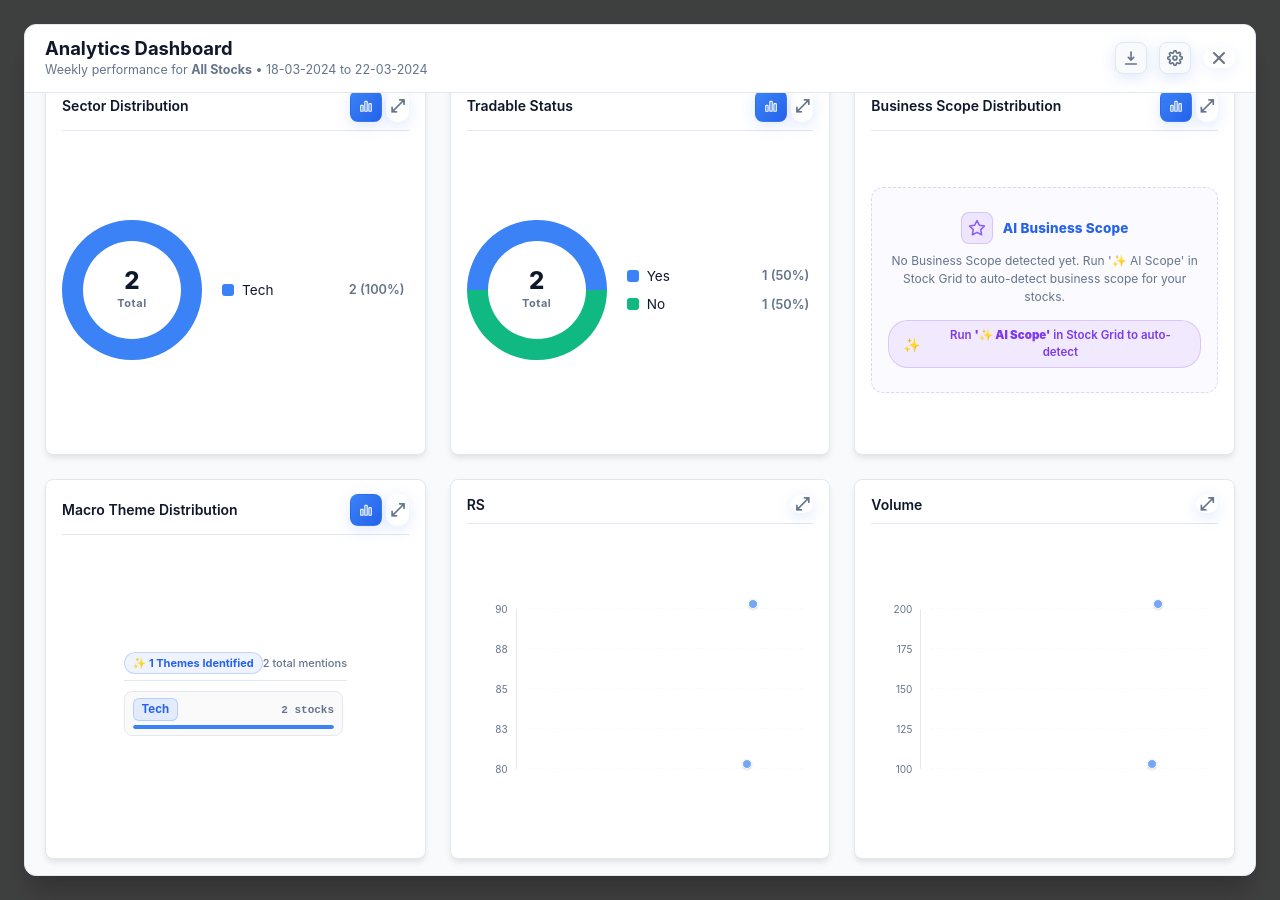
AnalyticsDashboard › opens expanded view when clicking a parameter card
(page scrolled)
Click the button with class "expand-btn" in the row of "RS". click: click(802, 504)
box: [791, 495, 813, 513]
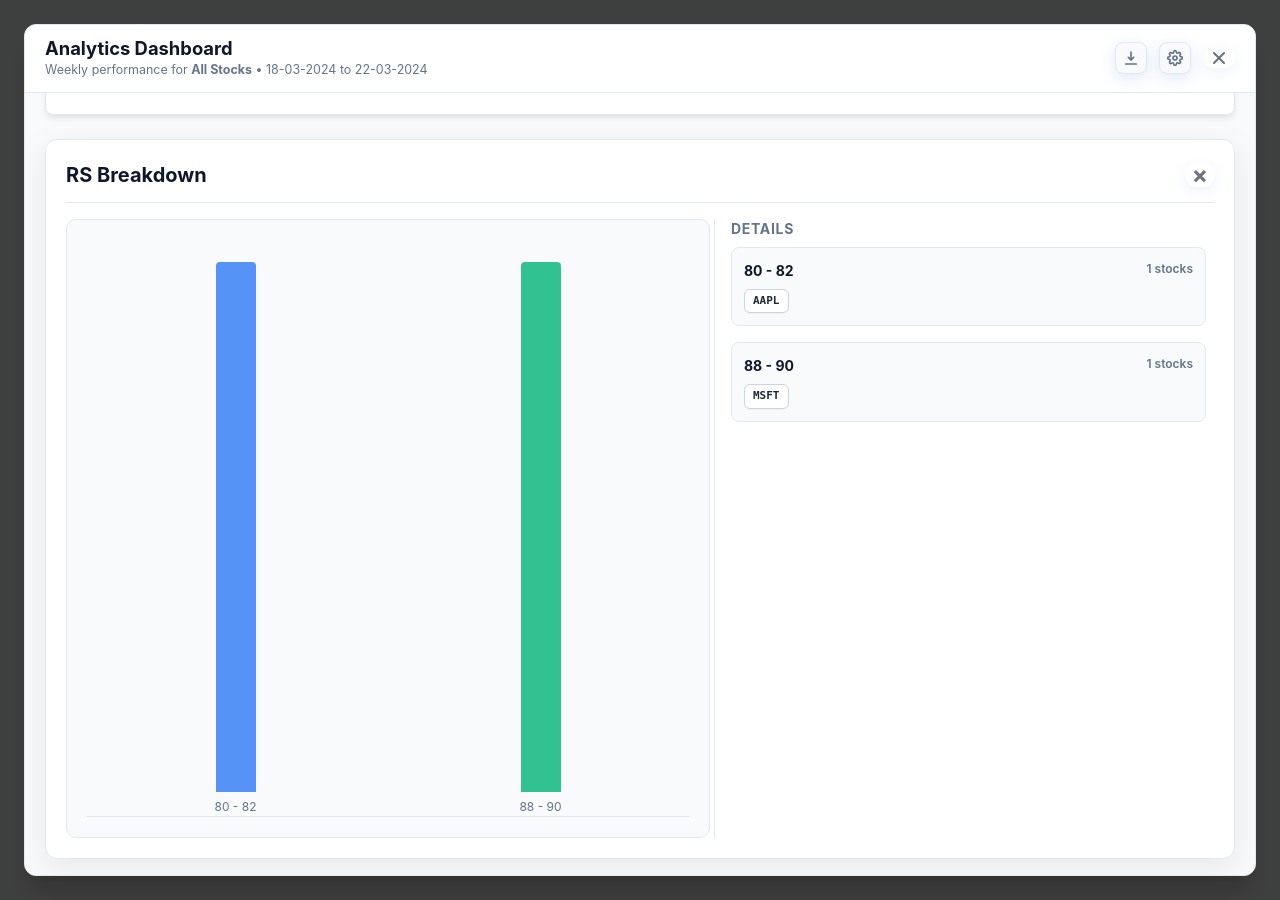
Expected: the heading "RS Breakdown" is shown, [66, 160, 207, 190]
